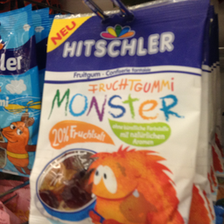candy: (35, 6, 206, 224)
